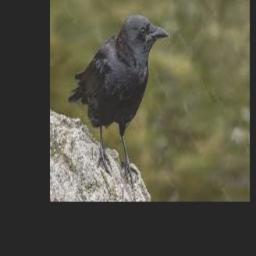Crow: (69, 15, 170, 185)
